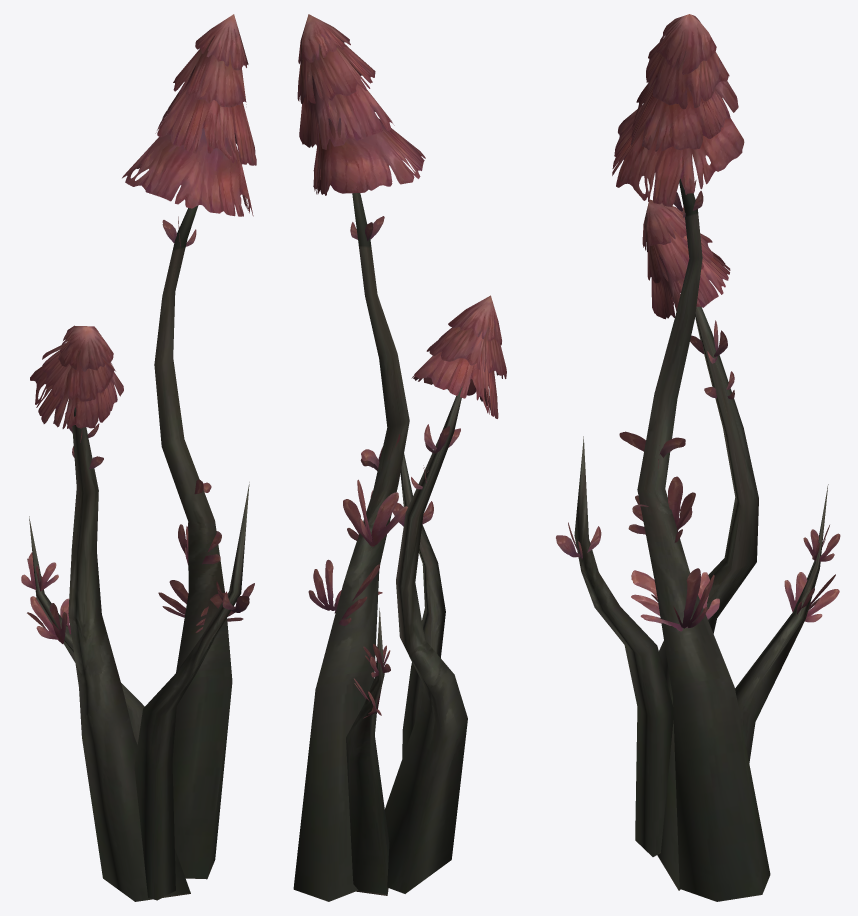
3 views of the same model, side by side, from view 1: azimuth 30°, elevation 25°; view 2: azimuth 150°, elevation 25°; view 3: azimuth 270°, elevation 25° (orthographic). The views are drawn at different scales.
Bounding box in the file's own units: 1.34 × 5.26 × 1.61.
1 material, 1 textured.
